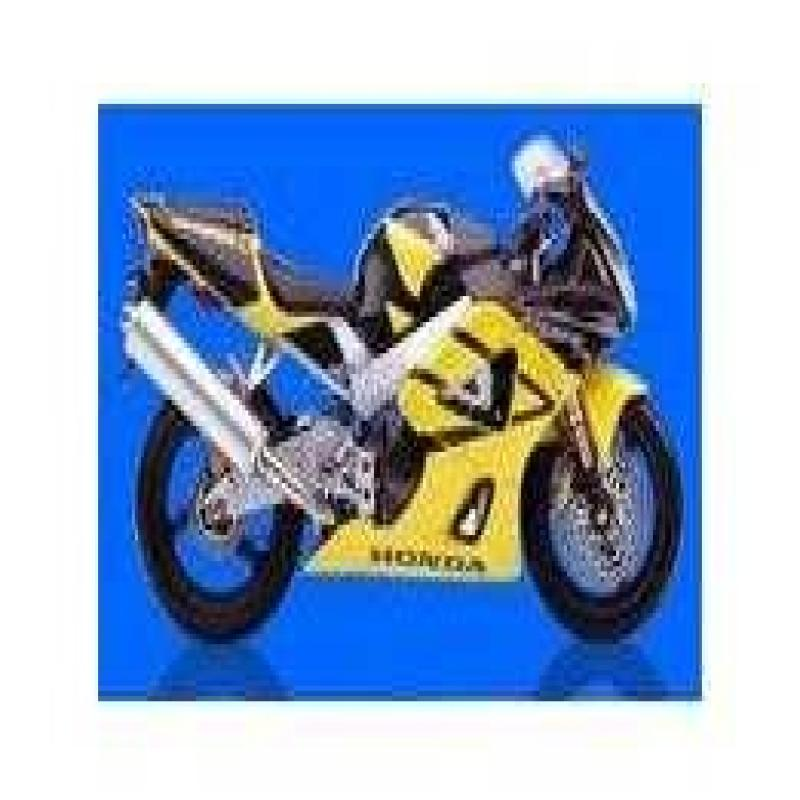bike: (98, 114, 696, 690)
